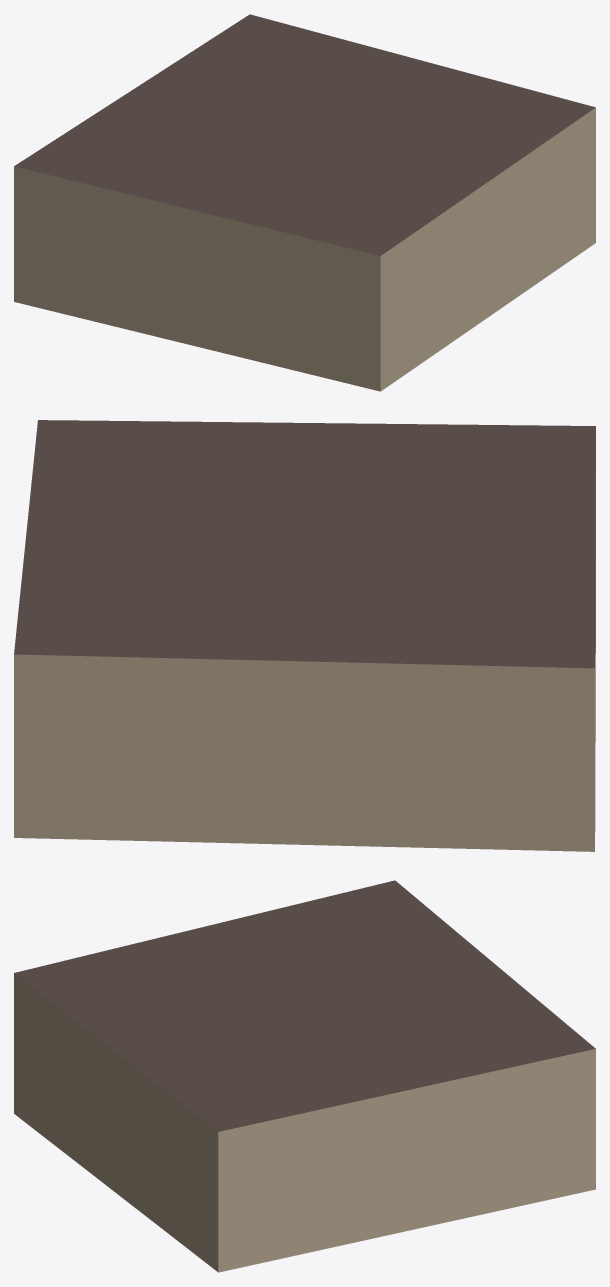
The picture shows the model from 3 angles, top to bottom: view 1: azimuth 30°, elevation 25°; view 2: azimuth 150°, elevation 25°; view 3: azimuth 270°, elevation 25°; orthographic projection. The views are drawn at different scales.
Parts seen in each view (by area): view 1: HP-w1512359758; view 2: HP-w1512359758; view 3: HP-w1512359758.
Part boxes in pixels (<box>): HP-w1512359758: <box>14,14,595,391</box>; HP-w1512359758: <box>14,420,595,851</box>; HP-w1512359758: <box>14,880,595,1272</box>.
Bounding box in the file's own units: 34.51 × 9 × 33.74.
